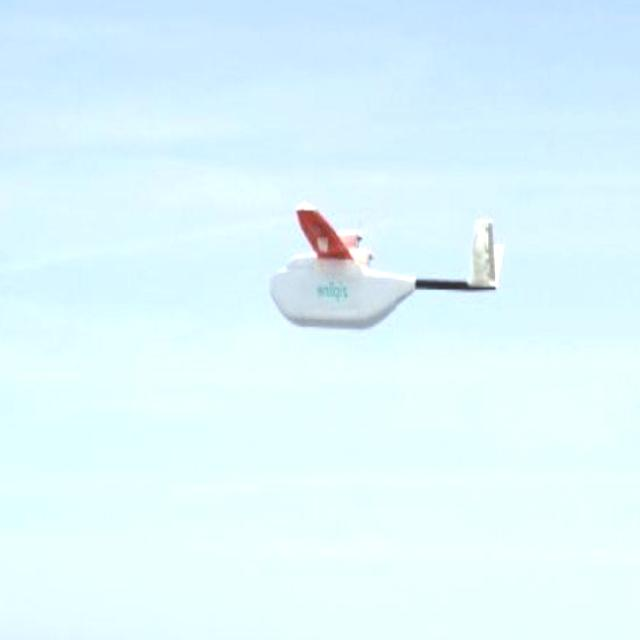plane: (268, 200, 506, 330)
